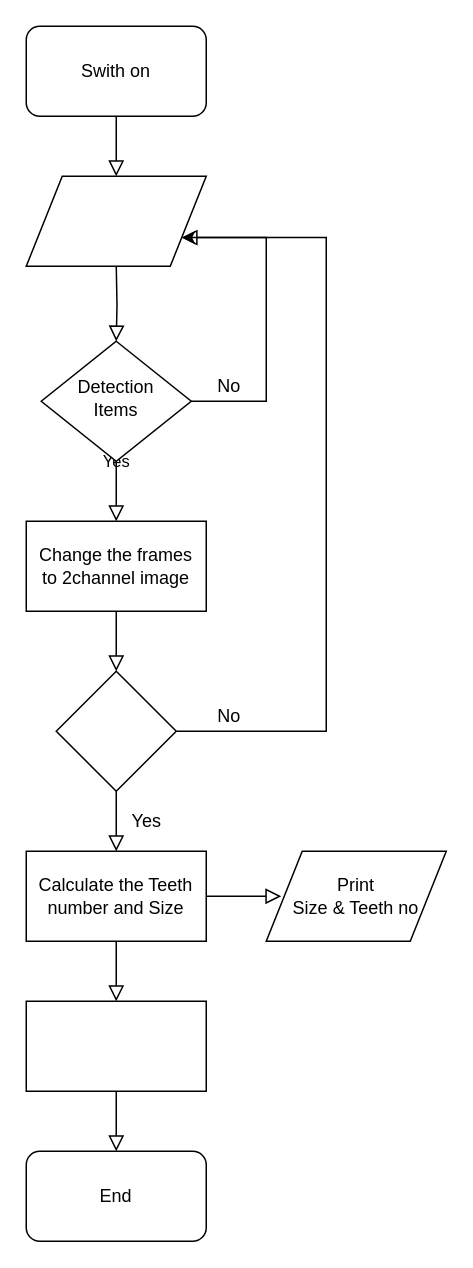
This 473x1268 diagram has some shape labels left out. Here are the shapes that lost their labels. From the top down, the centre of each, then its label:
pixel 115 220: Capture the Video
pixel 115 730: TCSB ?
pixel 115 1045: Push "Q"
